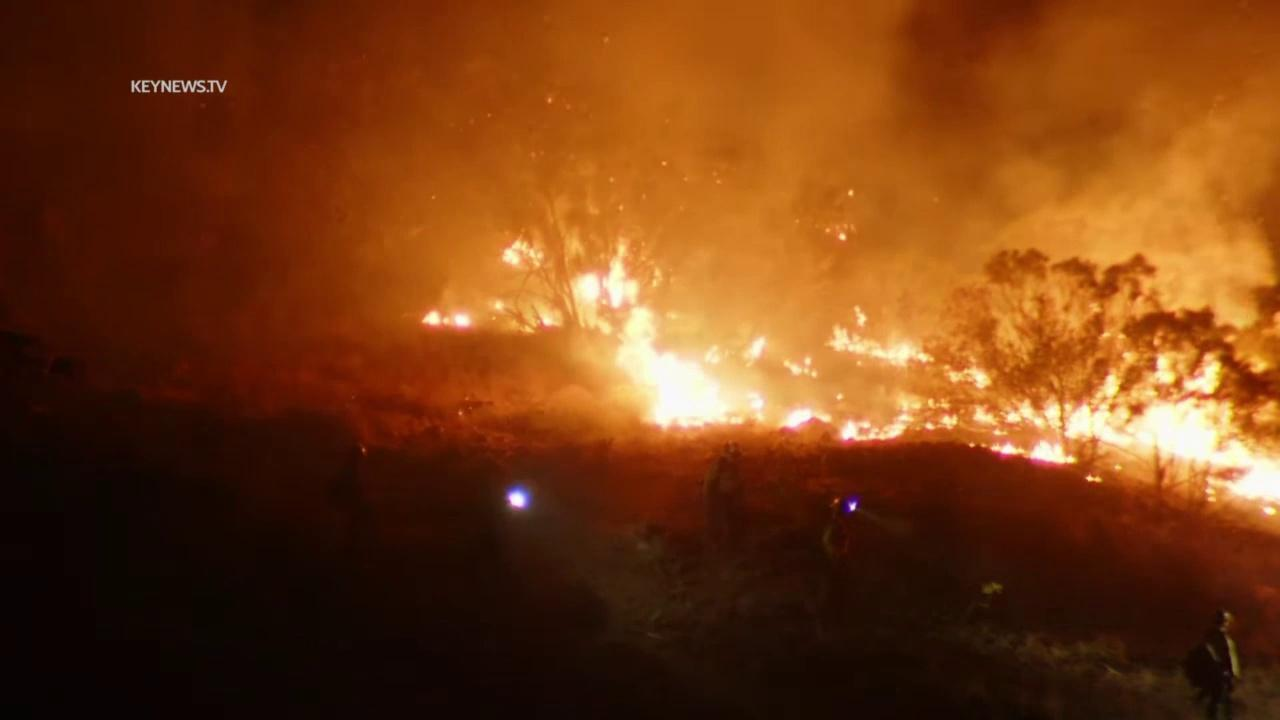fire: (973, 348, 1280, 516), (618, 305, 768, 432), (823, 303, 937, 369), (840, 394, 959, 445), (575, 229, 639, 309), (979, 438, 1082, 467), (416, 302, 471, 333), (942, 355, 992, 389), (499, 235, 547, 267), (780, 407, 833, 432), (781, 356, 822, 378), (744, 336, 767, 364), (1082, 472, 1104, 484), (539, 315, 555, 328), (492, 302, 511, 312), (1113, 463, 1124, 471)
smoke: (0, 0, 1280, 554)
